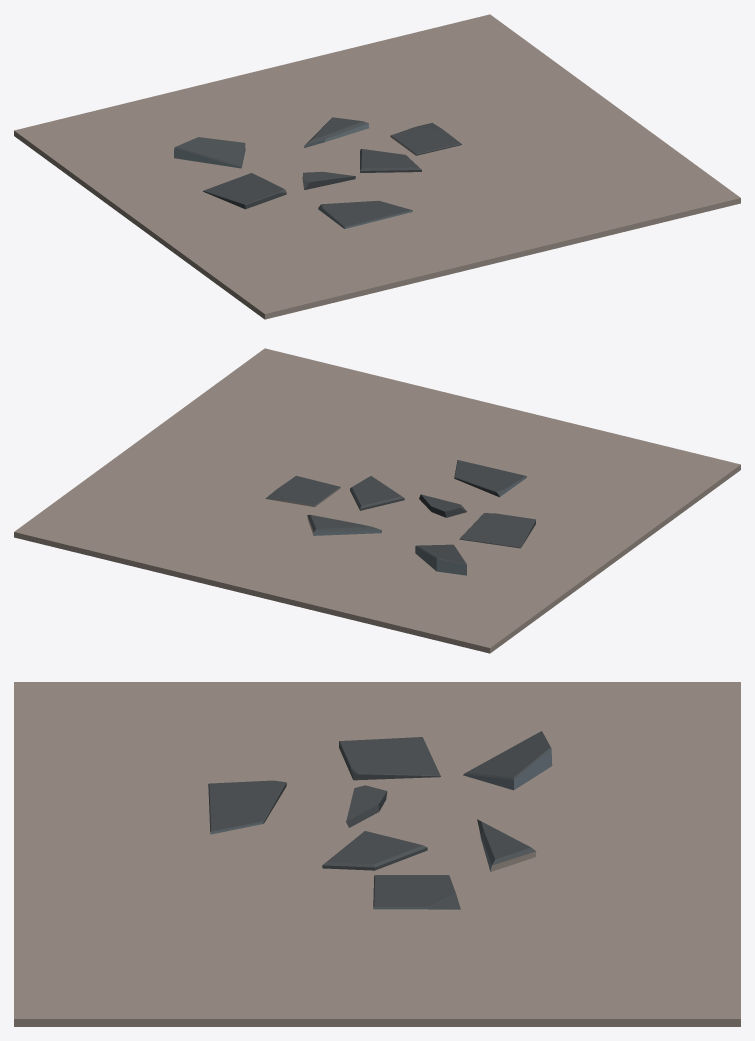
File: floor_5.glb
The picture shows the model from 3 angles, top to bottom: view 1: azimuth 30°, elevation 25°; view 2: azimuth 150°, elevation 25°; view 3: azimuth 270°, elevation 25°; orthographic projection. The views are drawn at different scales.
Parts seen in each view (by area): view 1: floor_5; view 2: floor_5; view 3: floor_5.
Part boxes in pixels (x1,y1,x2,y2): floor_5: [14, 14, 740, 319]; floor_5: [14, 348, 740, 653]; floor_5: [14, 682, 740, 1026].
Bounding box in the file's own units: 1.53 × 0.0563 × 1.4.
1 material, 1 textured.
